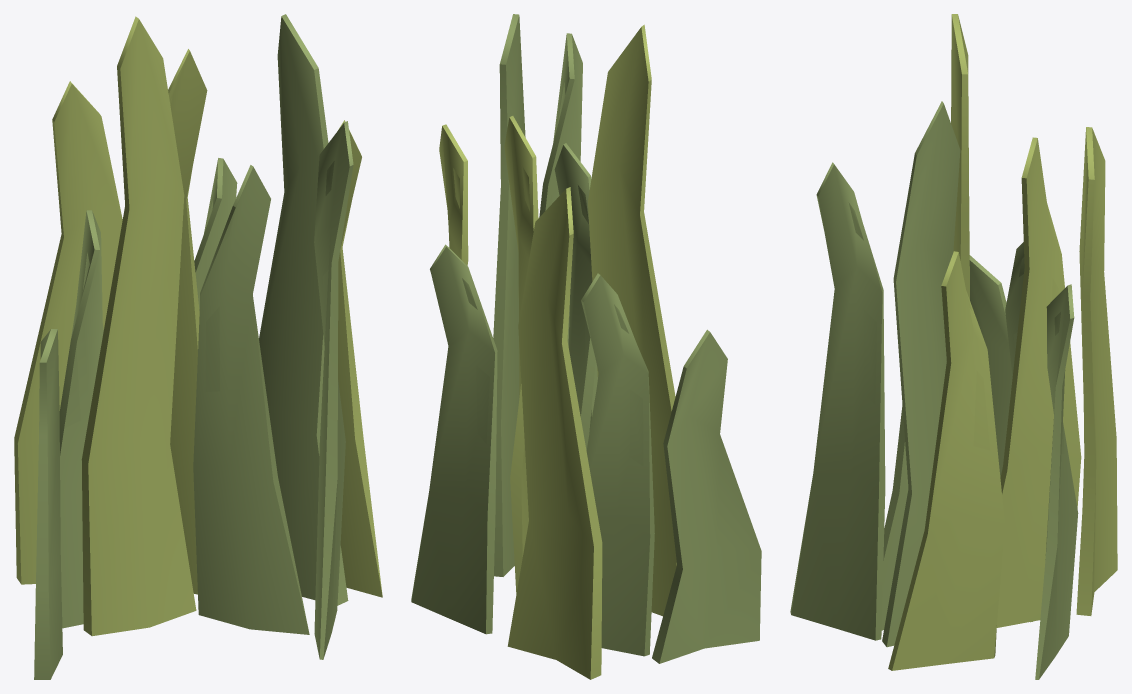
File: garden_grass2.fbx
The picture shows the model from 3 angles, left to right: view 1: azimuth 30°, elevation 25°; view 2: azimuth 150°, elevation 25°; view 3: azimuth 270°, elevation 25°; orthographic projection. The views are drawn at different scales.
Visible parts, largest first — view 1: polySurface9; view 2: polySurface9; view 3: polySurface9.
Part boxes in pixels (<box>): polySurface9: <box>14,14,382,679</box>; polySurface9: <box>411,14,761,679</box>; polySurface9: <box>790,14,1117,679</box>.
Bounding box in the file's own units: 0.5545 × 1 × 0.5103.
